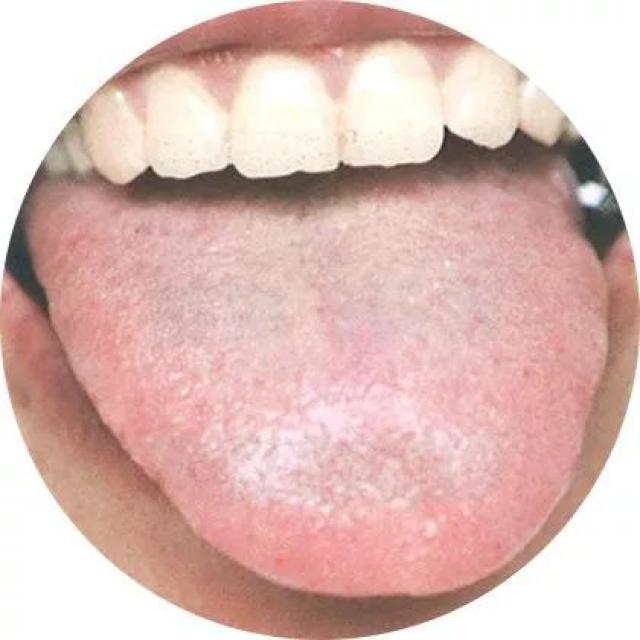tongue: (18, 176, 604, 604)
